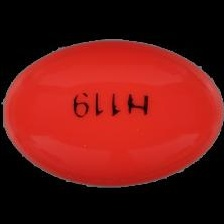0179-0197: (0, 0, 224, 224)
